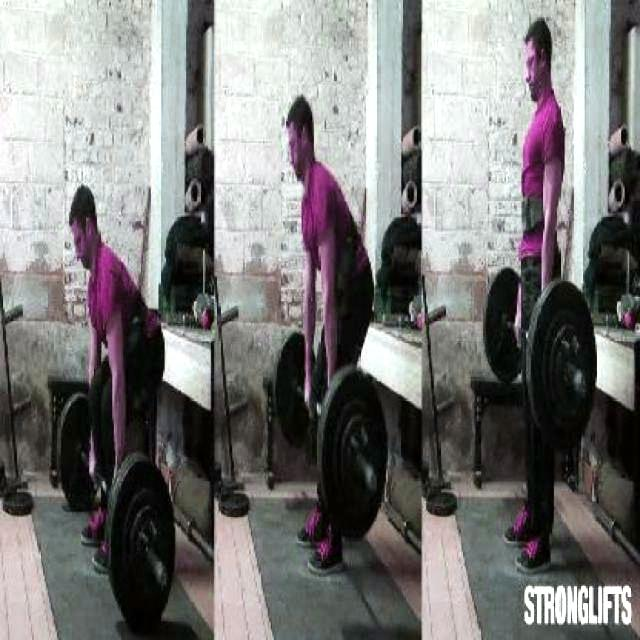barbell: (313, 367, 392, 549), (103, 455, 183, 632), (525, 277, 605, 450)
